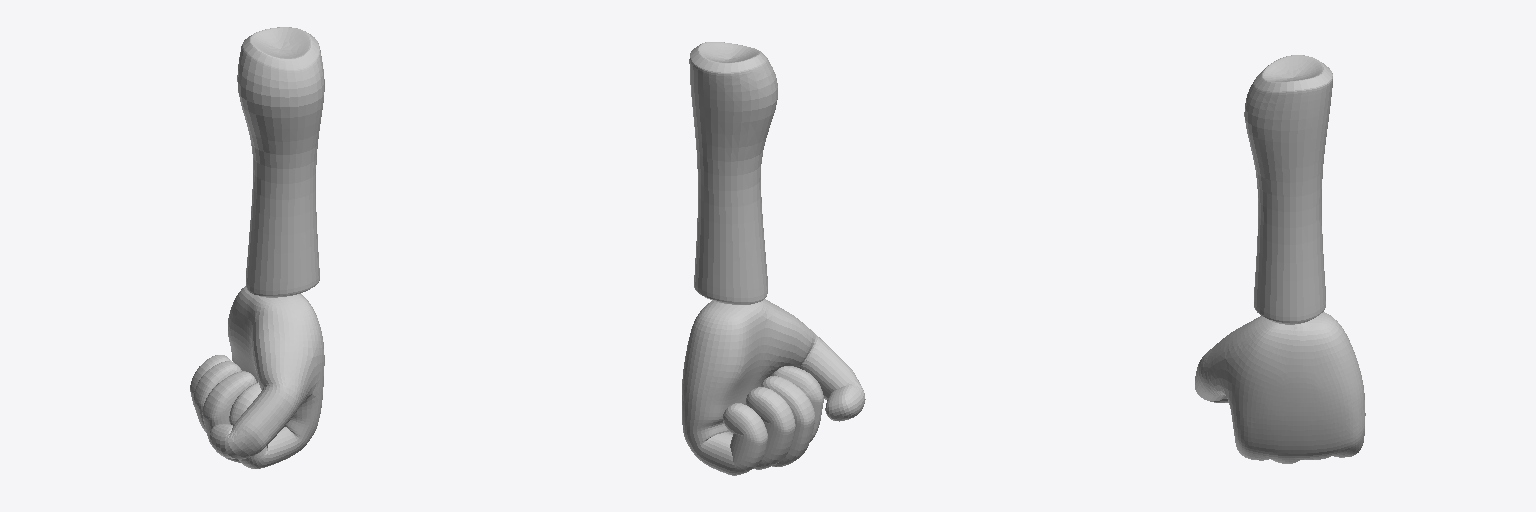
Rendered from ArmLHand.obj.
3 renders of one model, left to right at view 1: azimuth 30°, elevation 25°; view 2: azimuth 150°, elevation 25°; view 3: azimuth 270°, elevation 25°, orthographic.
Visible parts, largest first — view 1: GEO-Body.002_Body.000; view 2: GEO-Body.002_Body.000; view 3: GEO-Body.002_Body.000.
Boxes of the visible parts, x1,y1,x2,y2 form: GEO-Body.002_Body.000: [190, 27, 324, 468]; GEO-Body.002_Body.000: [682, 42, 865, 475]; GEO-Body.002_Body.000: [1195, 55, 1365, 463].
Bounding box in the file's own units: 0.1174 × 0.3423 × 0.1301.